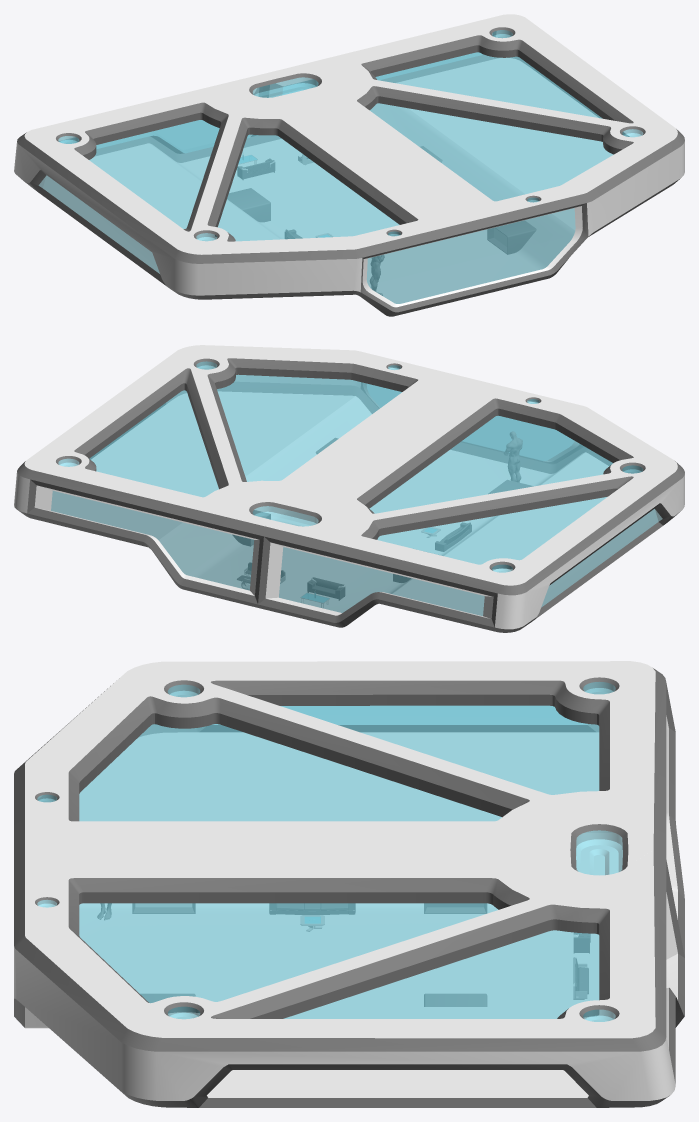
Rendered from 音乐街区KTV_顶部室内.fbx.
The picture shows the model from 3 angles, top to bottom: view 1: azimuth 30°, elevation 25°; view 2: azimuth 150°, elevation 25°; view 3: azimuth 270°, elevation 25°; orthographic projection. The views are drawn at different scales.
Visible parts, largest first — view 1: 顶部房间室内_本体, 顶部房间室内_玻璃, 沙发C; view 2: 顶部房间室内_本体, 顶部房间室内_玻璃, 沙发C, 顶部房间室内_装饰绿色动态人, 沙发B; view 3: 顶部房间室内_本体, 顶部房间室内_玻璃, 沙发B.
Part boxes in pixels (bbox=[...]): 顶部房间室内_本体: bbox=[14, 14, 684, 316]; 顶部房间室内_玻璃: bbox=[39, 30, 643, 303]; 沙发C: bbox=[237, 158, 274, 179]; 顶部房间室内_本体: bbox=[14, 345, 684, 632]; 顶部房间室内_玻璃: bbox=[51, 361, 662, 615]; 沙发C: bbox=[307, 577, 344, 600]; 顶部房间室内_装饰绿色动态人: bbox=[504, 431, 522, 482]; 沙发B: bbox=[435, 522, 471, 551]; 顶部房间室内_本体: bbox=[14, 661, 684, 1107]; 顶部房间室内_玻璃: bbox=[37, 682, 622, 1021]; 沙发B: bbox=[269, 903, 355, 914].
Size of the model in its own units: 11113 by 1594 by 8189.
